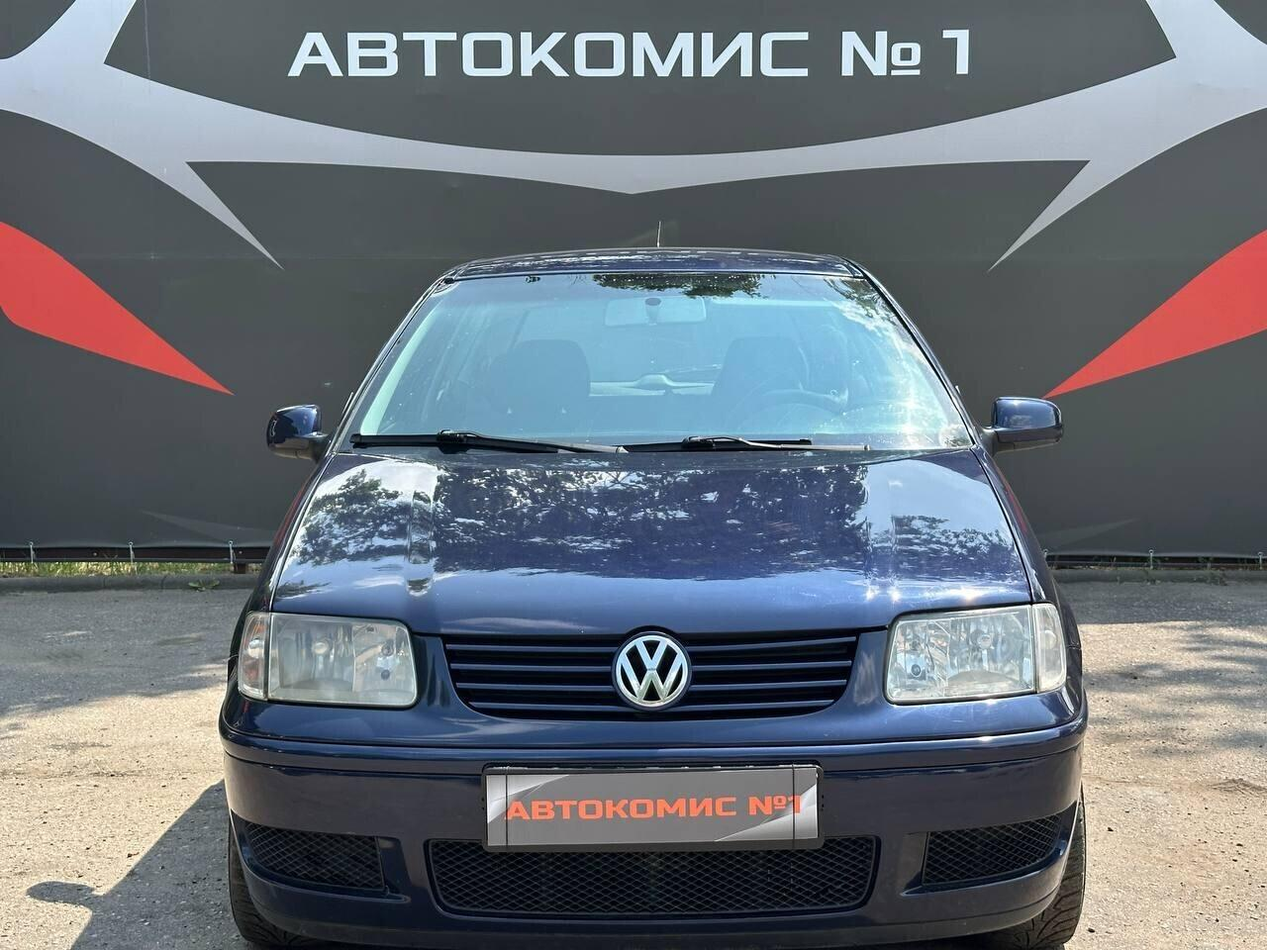Polo_2000-2002: (198, 210, 1113, 946)
